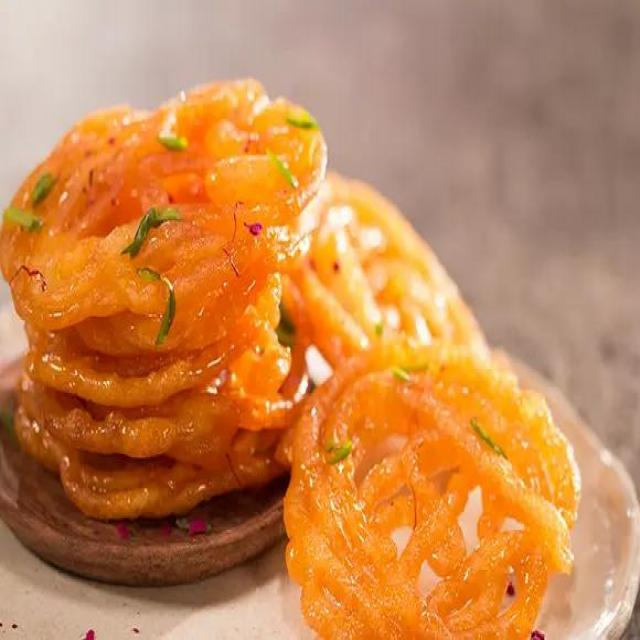jalebi: (3, 80, 575, 640)
